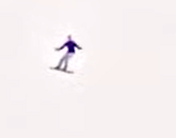snowboarder: (47, 33, 83, 76)
